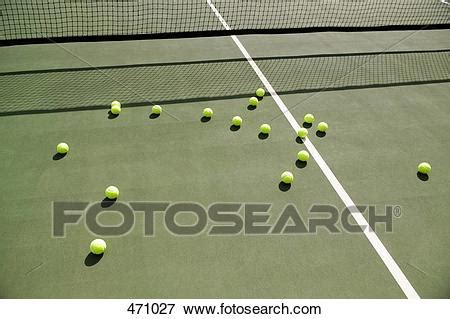tennis_ball: (89, 238, 106, 256), (105, 185, 120, 200), (56, 141, 69, 155), (280, 171, 294, 184), (418, 161, 431, 175), (151, 103, 162, 115), (298, 150, 309, 162), (231, 116, 242, 127), (248, 96, 259, 107), (260, 123, 271, 134), (317, 122, 328, 133), (110, 105, 122, 115), (202, 107, 213, 117), (298, 127, 308, 138), (304, 113, 314, 124), (256, 87, 265, 96), (111, 100, 120, 106)
